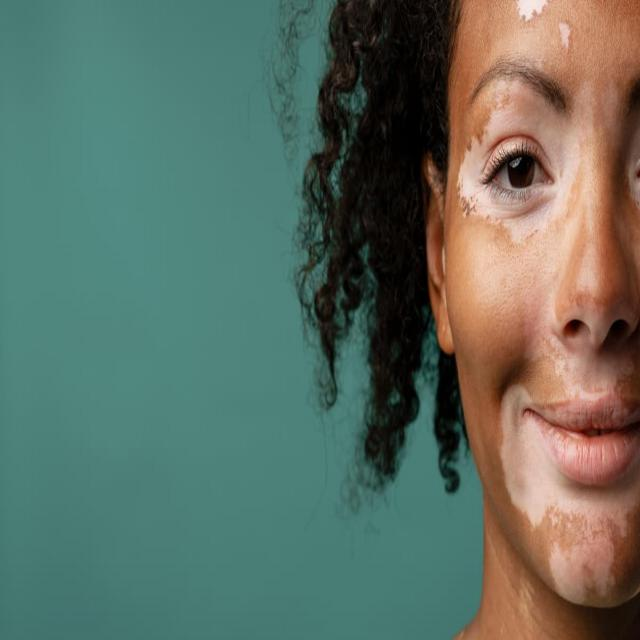vitiligo: (488, 367, 628, 612), (454, 80, 600, 253), (509, 0, 593, 62)
